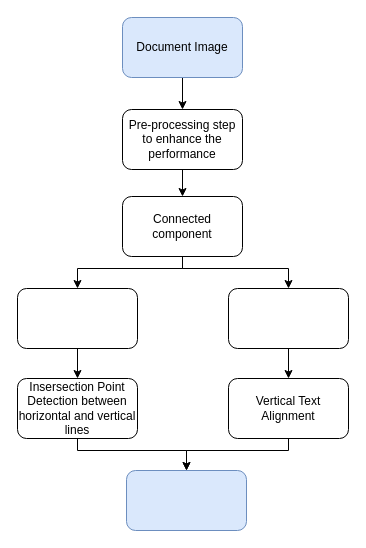
This 366x548 diagram has some shape labels left out. Each missing label, with the centre of its shape:
Line detections such as Hough Transform: the point at 77,318
Table Position Predictions: the point at 186,500
Text detections such as OCR: the point at 288,318
